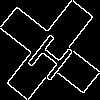H: (25, 25, 81, 83)
